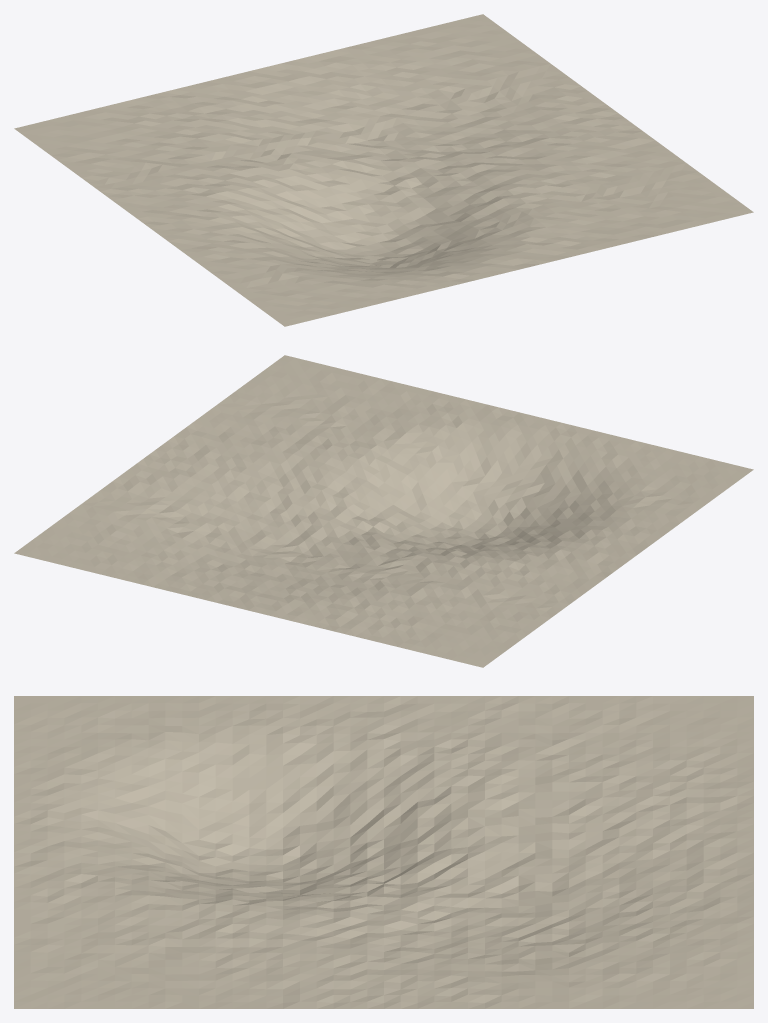
Rendered from Ground_m_04.fbx.
3 renders of one model, top to bottom at view 1: azimuth 30°, elevation 25°; view 2: azimuth 150°, elevation 25°; view 3: azimuth 270°, elevation 25°, orthographic. The views are drawn at different scales.
Parts seen in each view (by area): view 1: Ground_m_04; view 2: Ground_m_04; view 3: Ground_m_04.
Part boxes in pixels (x1=…): Ground_m_04: x1=14, y1=14, x2=753, y2=326; Ground_m_04: x1=14, y1=355, x2=753, y2=667; Ground_m_04: x1=14, y1=696, x2=753, y2=1008.
Bounding box in the file's own units: 10000 × 724 × 10000.
